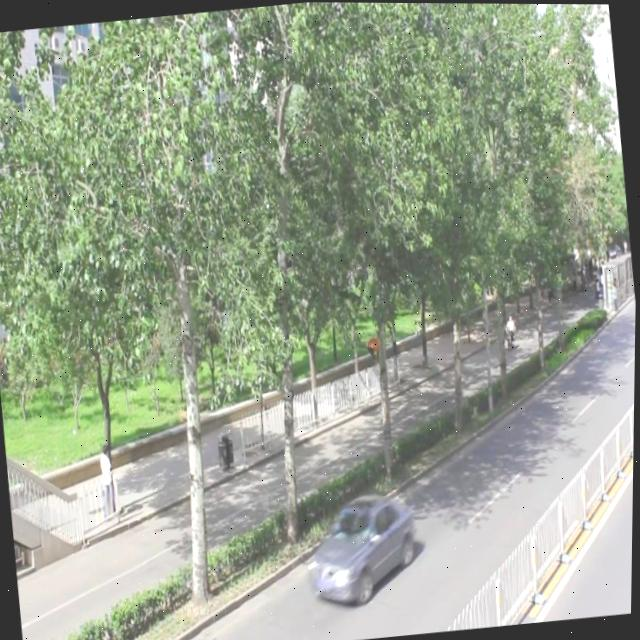car: (301, 486, 421, 608)
